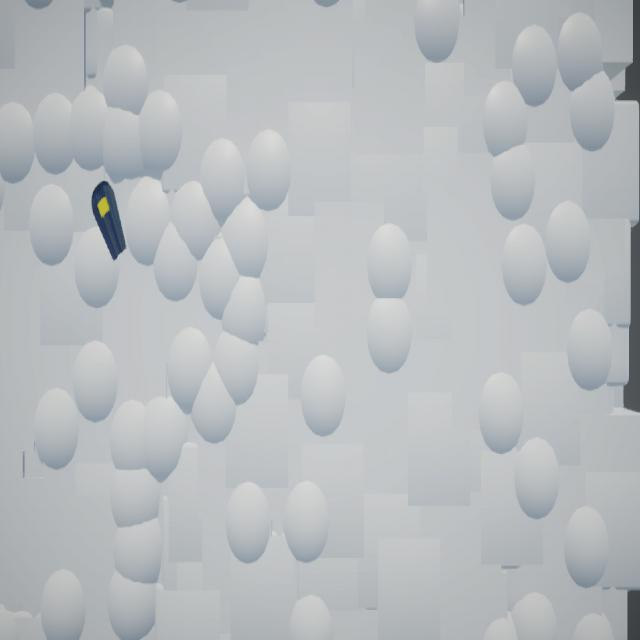handle_folk: (93, 181, 128, 263)
